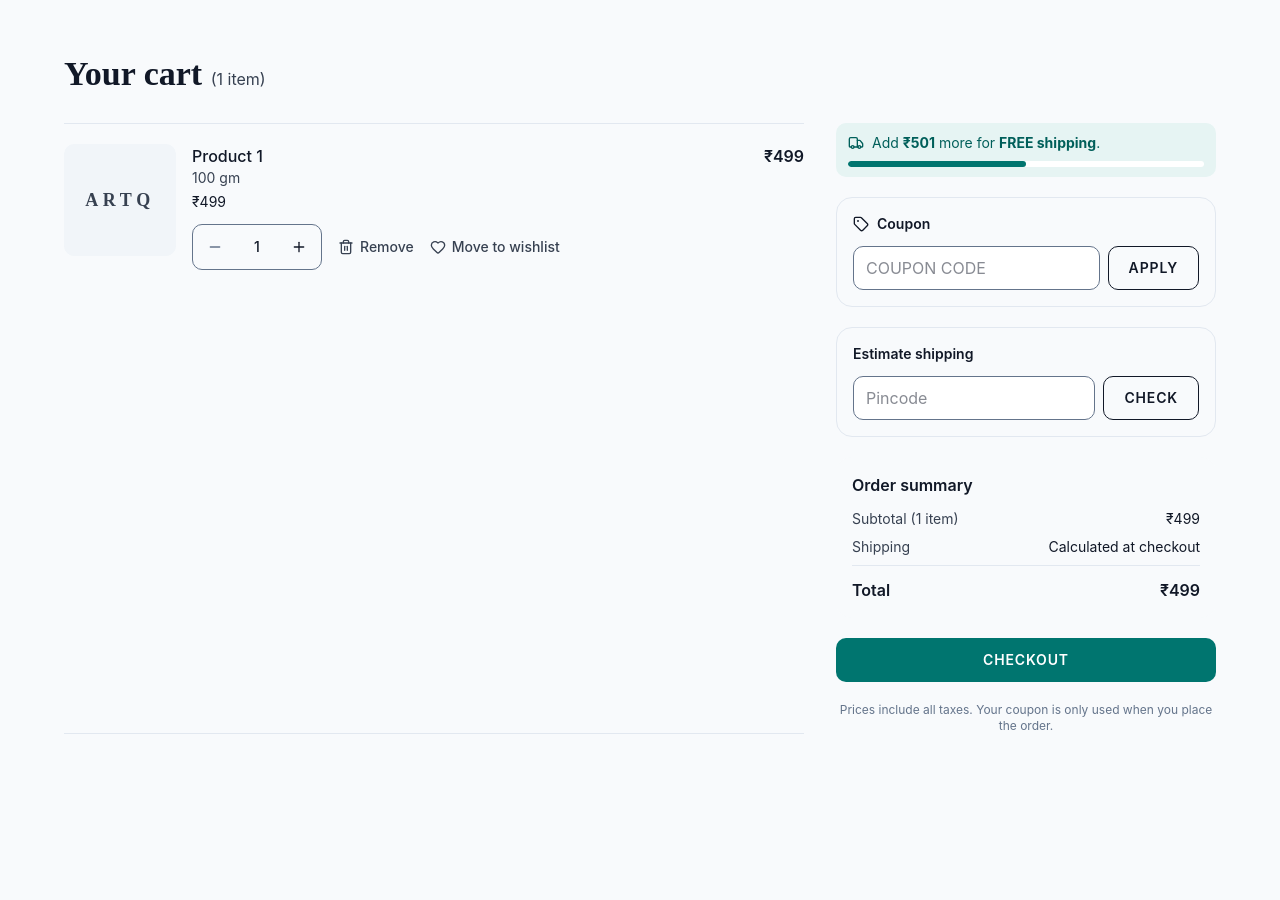
Test: coupon box › empty → message under the field (shared rule); a refused code → its reason under the field; applied → code, saving, remove
Click the button "Apply" at point(1153, 268), box x1=1108 y1=246 x2=1199 y2=290
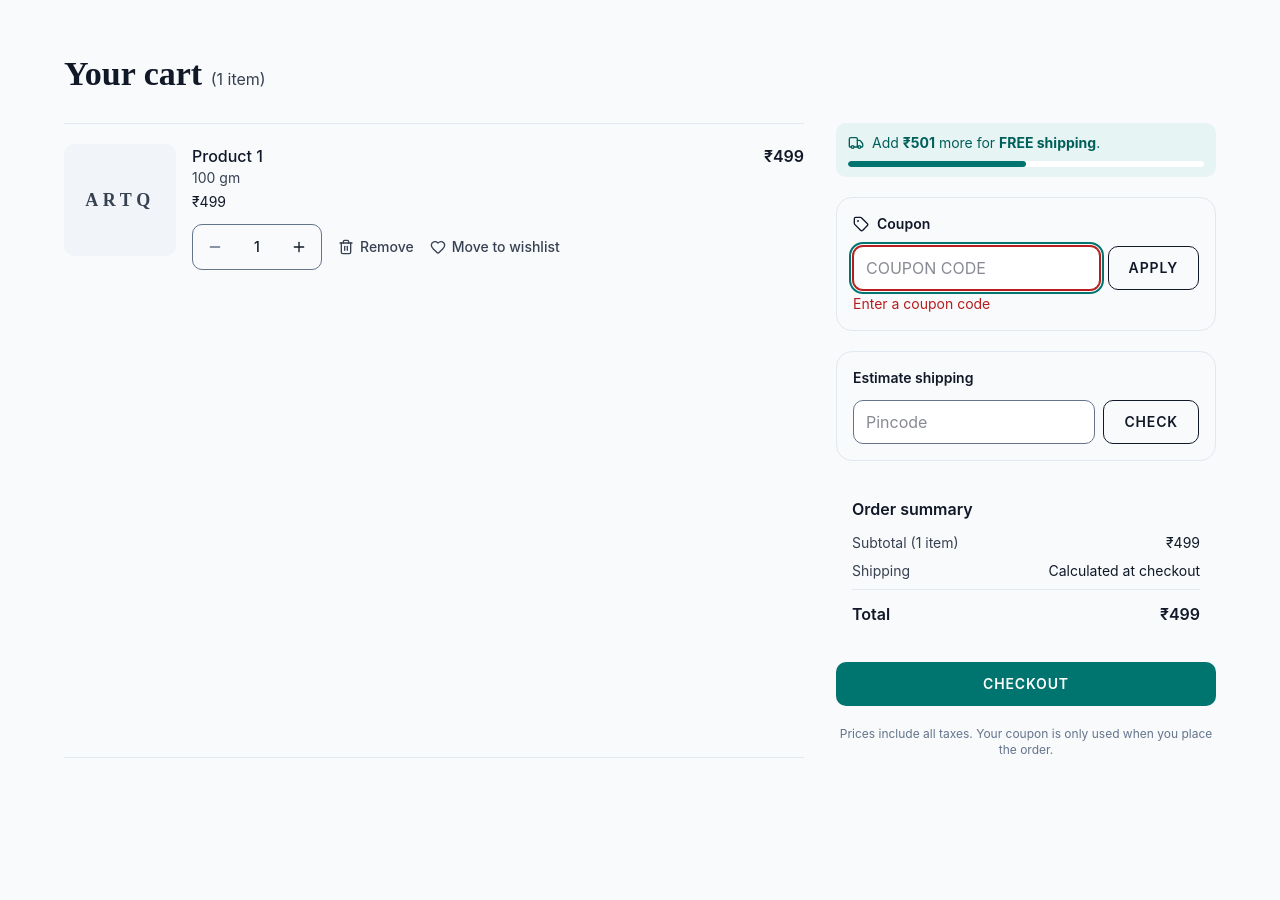
Check: the text with id "coupon-code-error" reads "Enter a coupon code", box x1=853 y1=295 x2=990 y2=312
Type "big100" into the field labelled "Coupon code" at point(976, 268), box x1=853 y1=246 x2=1100 y2=290
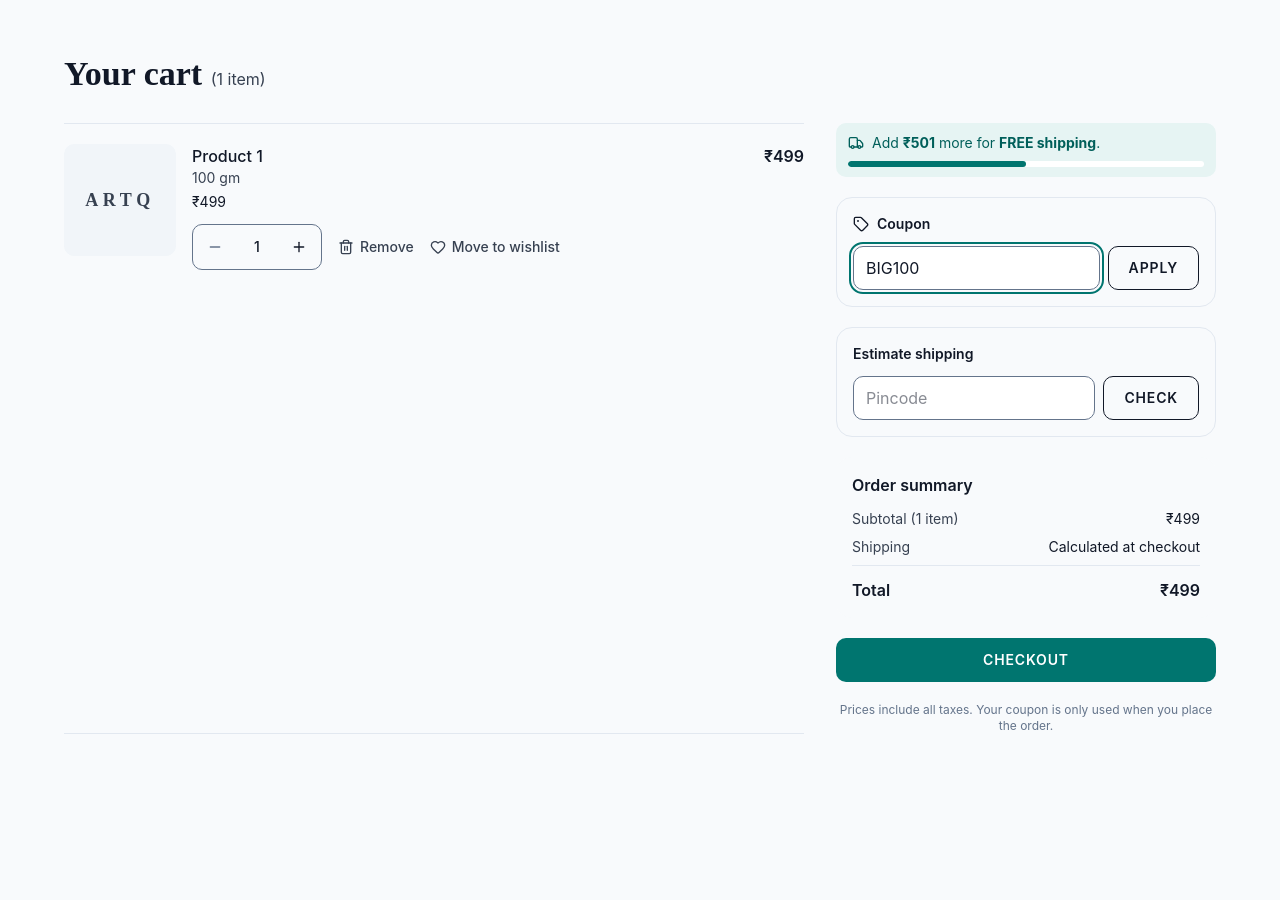
Click the button "Apply" at point(1153, 268), box x1=1108 y1=246 x2=1199 y2=290
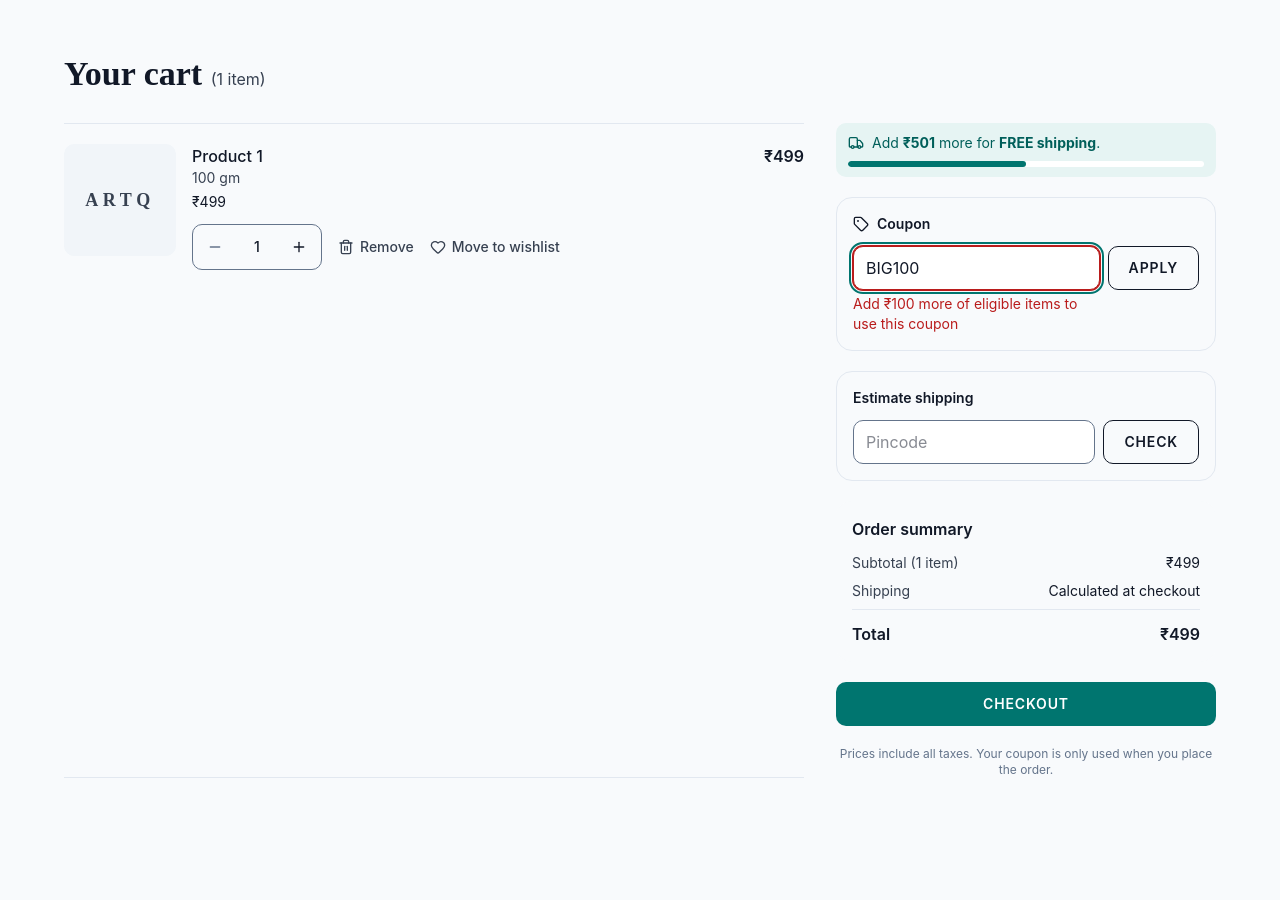
Check: the text with id "coupon-code-error" reads "Add ₹100 more of eligible items to use this coupon", box x1=853 y1=295 x2=1077 y2=332
Replace the text in the field named "Coupon code" with "welcome10" at point(976, 268), box x1=853 y1=246 x2=1100 y2=290
Then press Enter
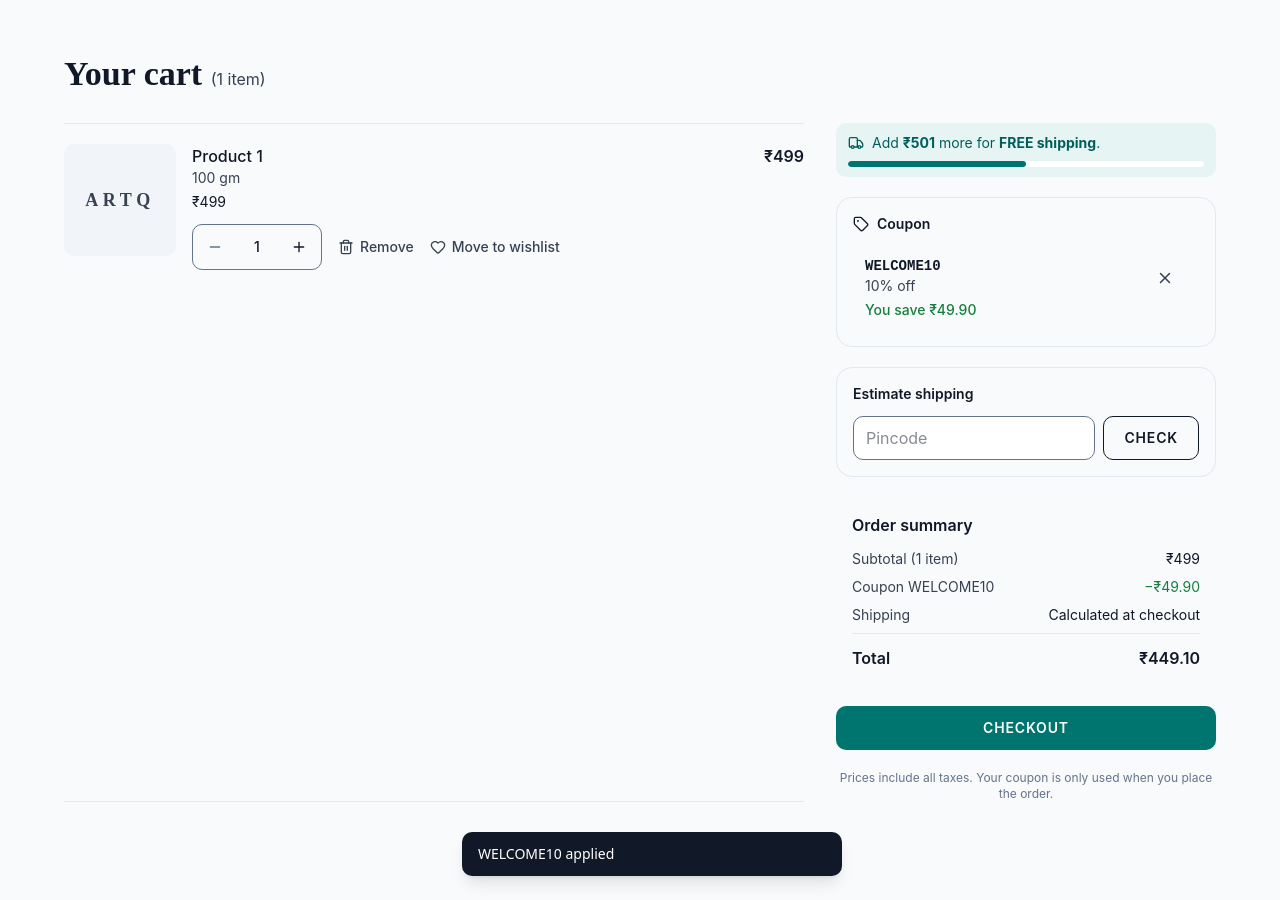
Check: the text "You save ₹49.90" is shown, box x1=865 y1=300 x2=976 y2=320
Check: the text "−₹49.90" is shown, box x1=1144 y1=577 x2=1200 y2=597
Click the button named "Remove coupon WELCOME10" at point(1165, 278), box x1=1143 y1=256 x2=1187 y2=300
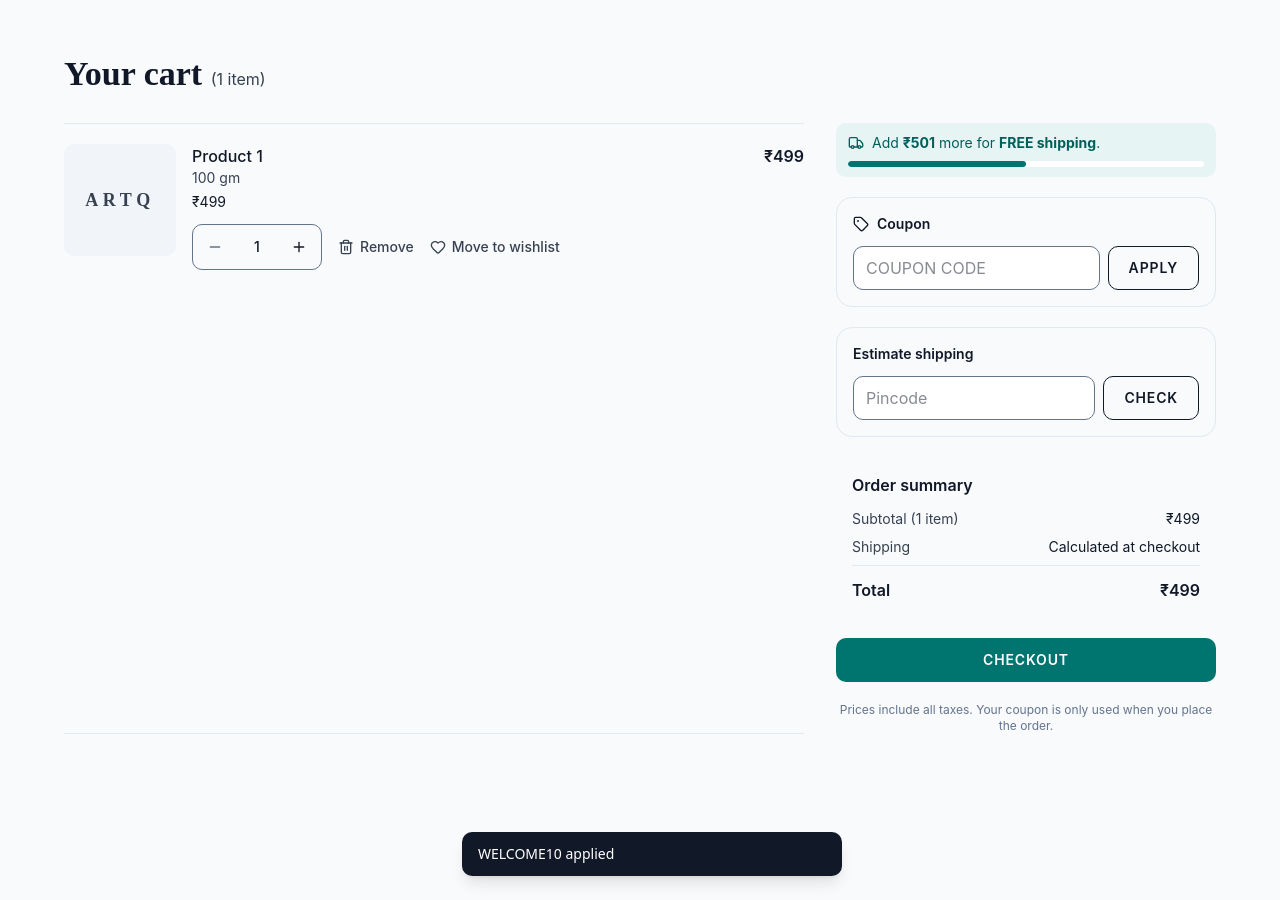
Check: the field labelled "Coupon code" is shown, box x1=853 y1=246 x2=1100 y2=290
